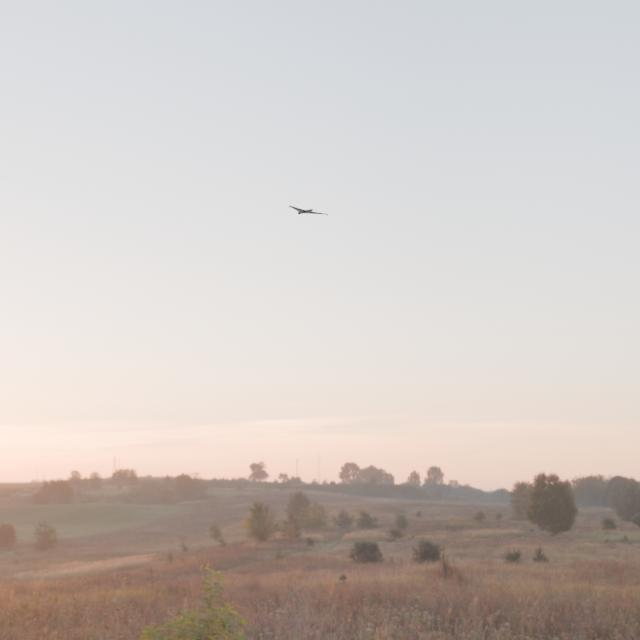Airaplan: (289, 205, 328, 216)
